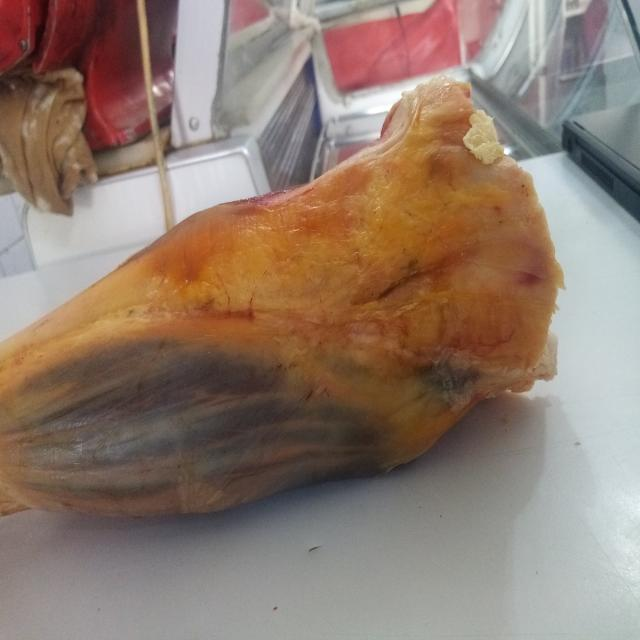Beef: (8, 144, 622, 560)
